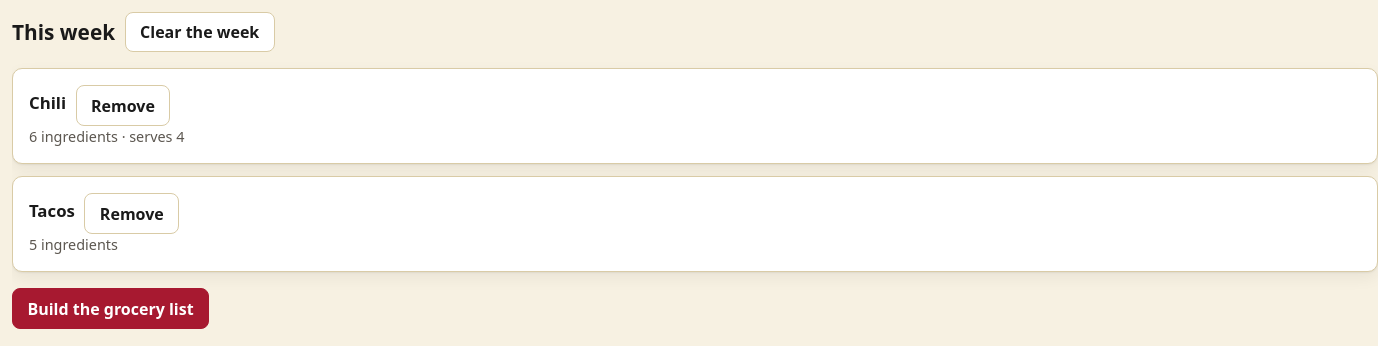
it: ThisWeek › lists selected recipes and removes one
Expected: the heading "Chili" is shown, [29,94,66,114]
Click the button "Remove" next to "Chili" at (123, 106), box [76,85,170,126]
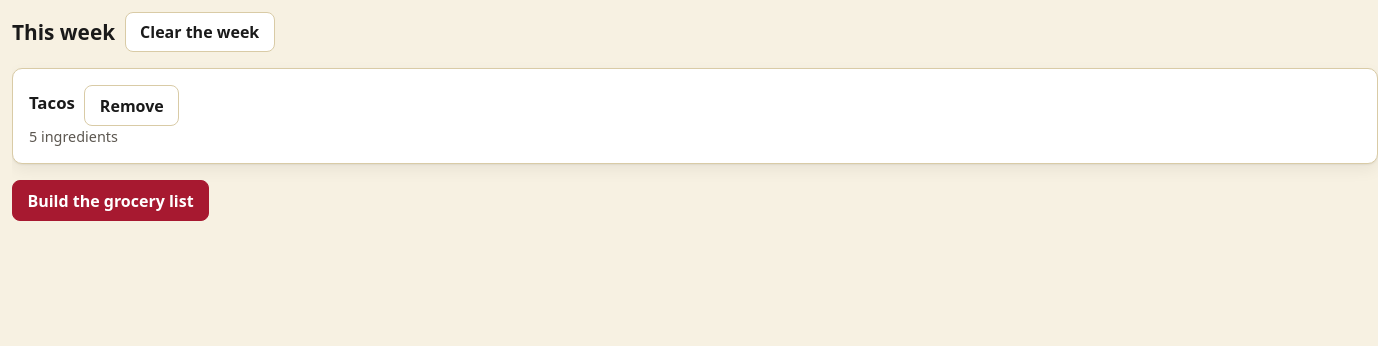
Now the link "Chili" is gone
